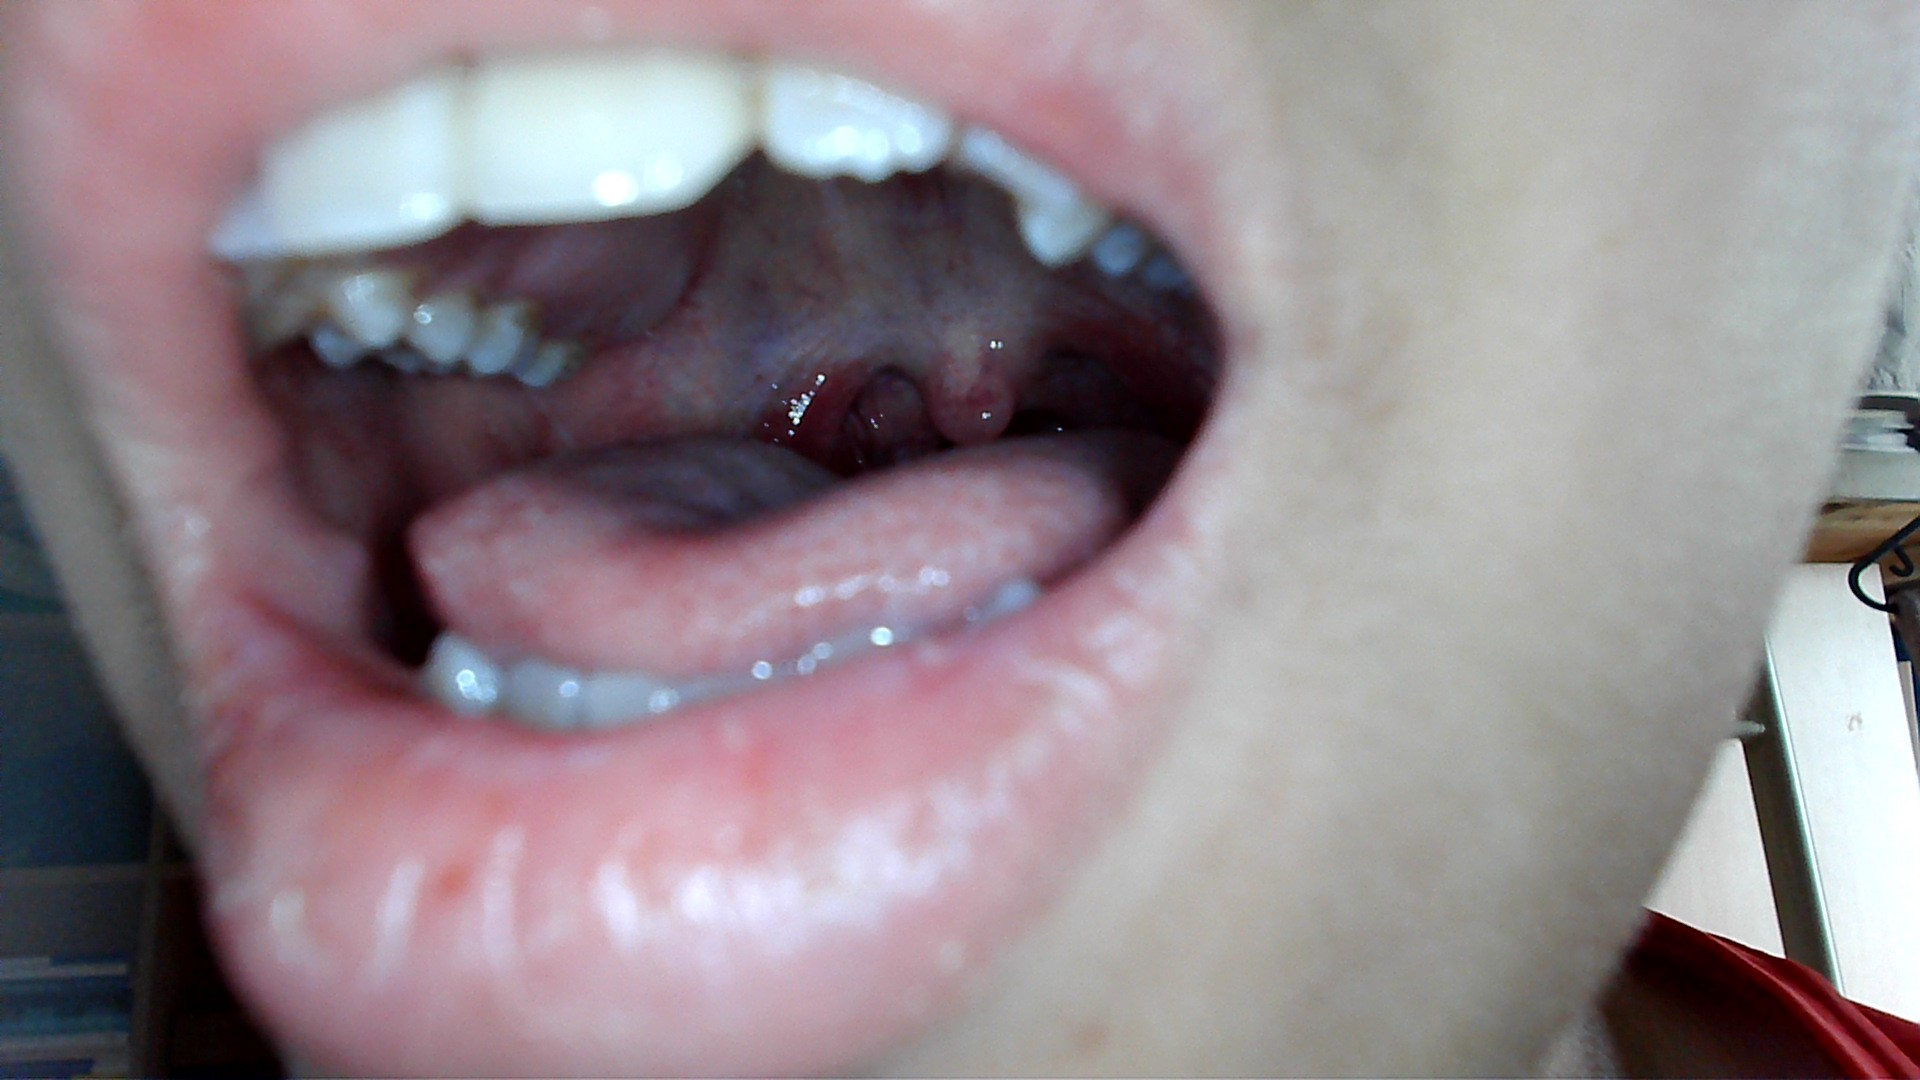throat: (770, 336, 882, 460)
